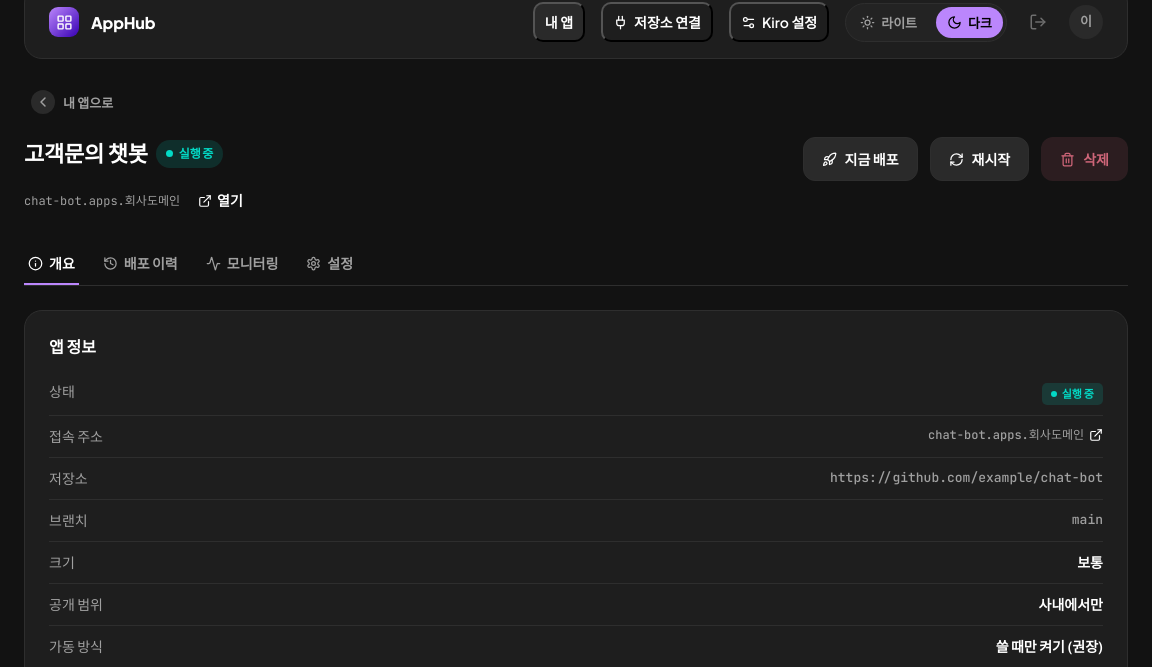
Scenario: N1 — 로그인 보호 토글 › 토글 근처에 '한 번 더 로그인' 안내가 보이고 금지 용어가 없다
Expected: the heading "고객문의 챗봇 실행 중" is shown, [24,137,253,170]
Click the tab "설정": [330, 264] box [302,243,357,285]
(page scrolled)
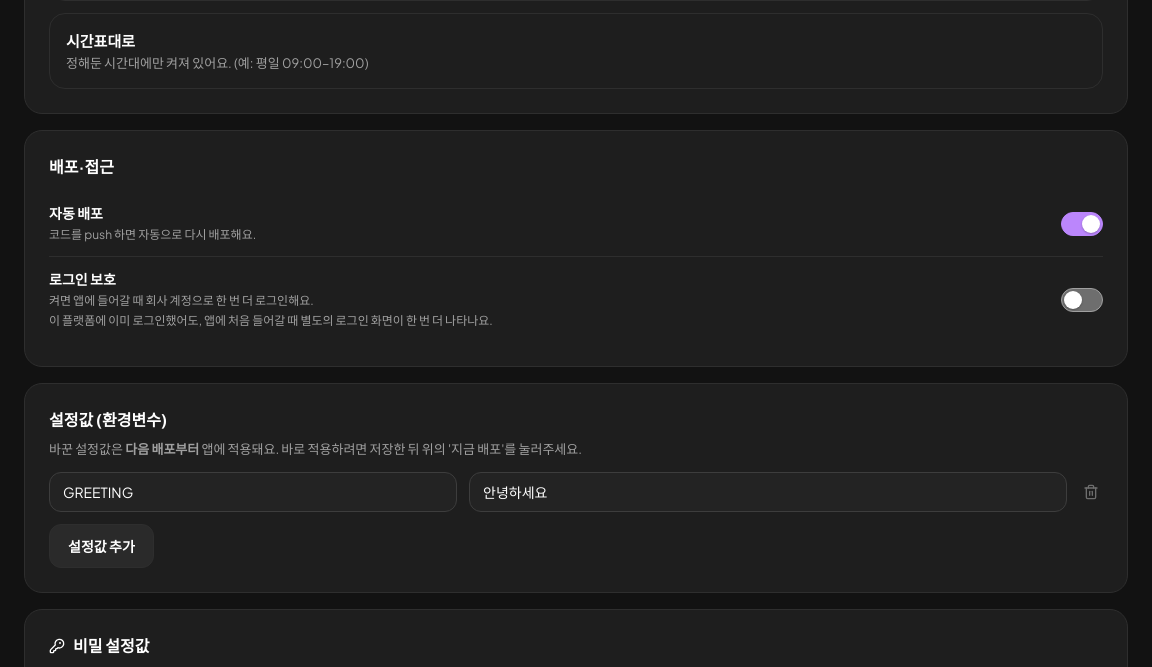
Now the switch named "로그인 보호" is enabled, box [1061,288,1103,312]
Now the text "켜면 앱에 들어갈 때 회사 계정으로 한 번 더 로그인해요." is shown, box [49,293,314,308]
Now the text "이 플랫폼에 이미 로그인했어도, 앱에 처음 들어갈 때 별도의 로그인 화면이 한 번 더 나타나요." is shown, box [49,313,493,328]
